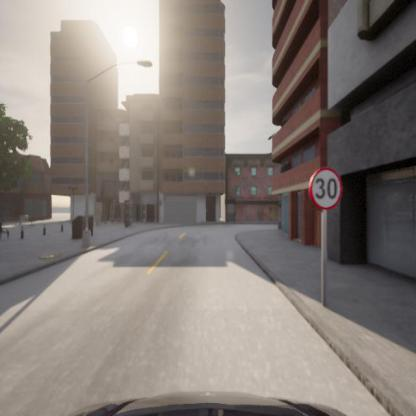traffic_sign_30: (308, 166, 342, 209)
